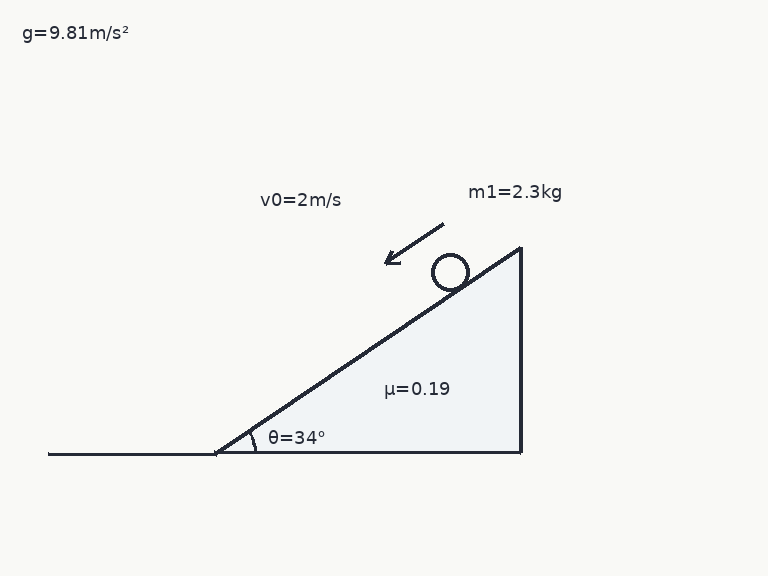ball: (429, 251, 471, 293)
ramp: (213, 245, 522, 455)
